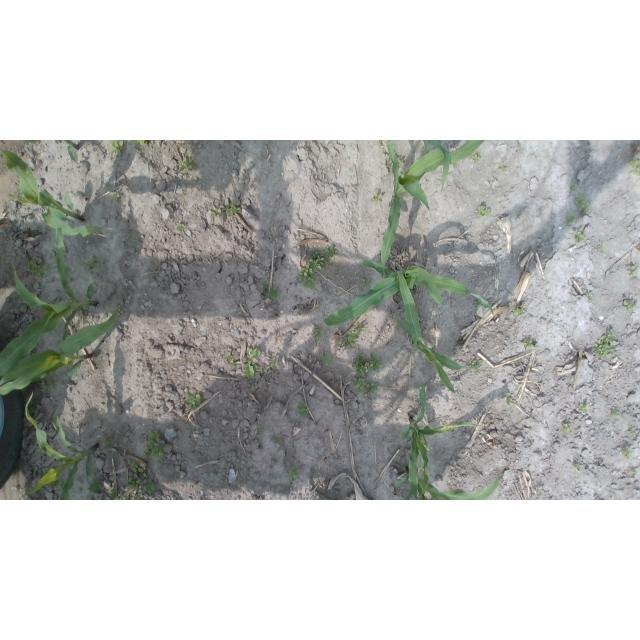Maize: (0, 228, 98, 379), (380, 140, 487, 276), (323, 258, 493, 330), (1, 308, 120, 396), (0, 145, 116, 235), (399, 384, 481, 500), (394, 269, 466, 395), (24, 393, 99, 500), (397, 464, 500, 500), (421, 141, 451, 192), (21, 140, 79, 162)
Weeds: (126, 460, 156, 496), (308, 245, 338, 272), (352, 353, 384, 377), (141, 432, 166, 461), (594, 329, 617, 359), (296, 263, 321, 288), (244, 347, 261, 379), (175, 156, 198, 173), (24, 261, 48, 276), (184, 389, 202, 409), (576, 194, 593, 215), (348, 328, 364, 348), (80, 258, 101, 273), (261, 284, 279, 301), (87, 479, 102, 498), (352, 377, 369, 393), (284, 466, 300, 482), (629, 153, 640, 176), (571, 227, 585, 245), (39, 379, 57, 393), (109, 488, 128, 501), (511, 300, 526, 316), (109, 140, 124, 156), (225, 202, 241, 216), (477, 205, 491, 220), (312, 325, 324, 341), (50, 478, 66, 490), (367, 383, 380, 397), (296, 403, 309, 417), (623, 299, 637, 311), (468, 359, 483, 370), (210, 206, 222, 218), (98, 435, 112, 445), (524, 340, 536, 351), (623, 445, 633, 458), (256, 424, 266, 437), (132, 140, 148, 148), (269, 357, 278, 371), (565, 216, 576, 227), (371, 191, 383, 201), (320, 351, 332, 361), (560, 425, 570, 436), (272, 437, 284, 446), (579, 403, 589, 413), (175, 221, 185, 231), (504, 392, 512, 404), (41, 466, 53, 474), (473, 153, 482, 163), (629, 265, 638, 275), (225, 352, 234, 362), (338, 340, 347, 349), (612, 410, 621, 419), (359, 278, 369, 286), (573, 463, 583, 471), (397, 157, 404, 168), (500, 163, 508, 172), (516, 213, 524, 222), (112, 191, 120, 200), (629, 428, 636, 437), (387, 159, 393, 169), (476, 300, 483, 308), (516, 142, 522, 151), (572, 182, 577, 190), (535, 487, 541, 493), (587, 293, 593, 299), (601, 245, 606, 252), (135, 496, 141, 501), (544, 292, 549, 297), (628, 470, 634, 474)
